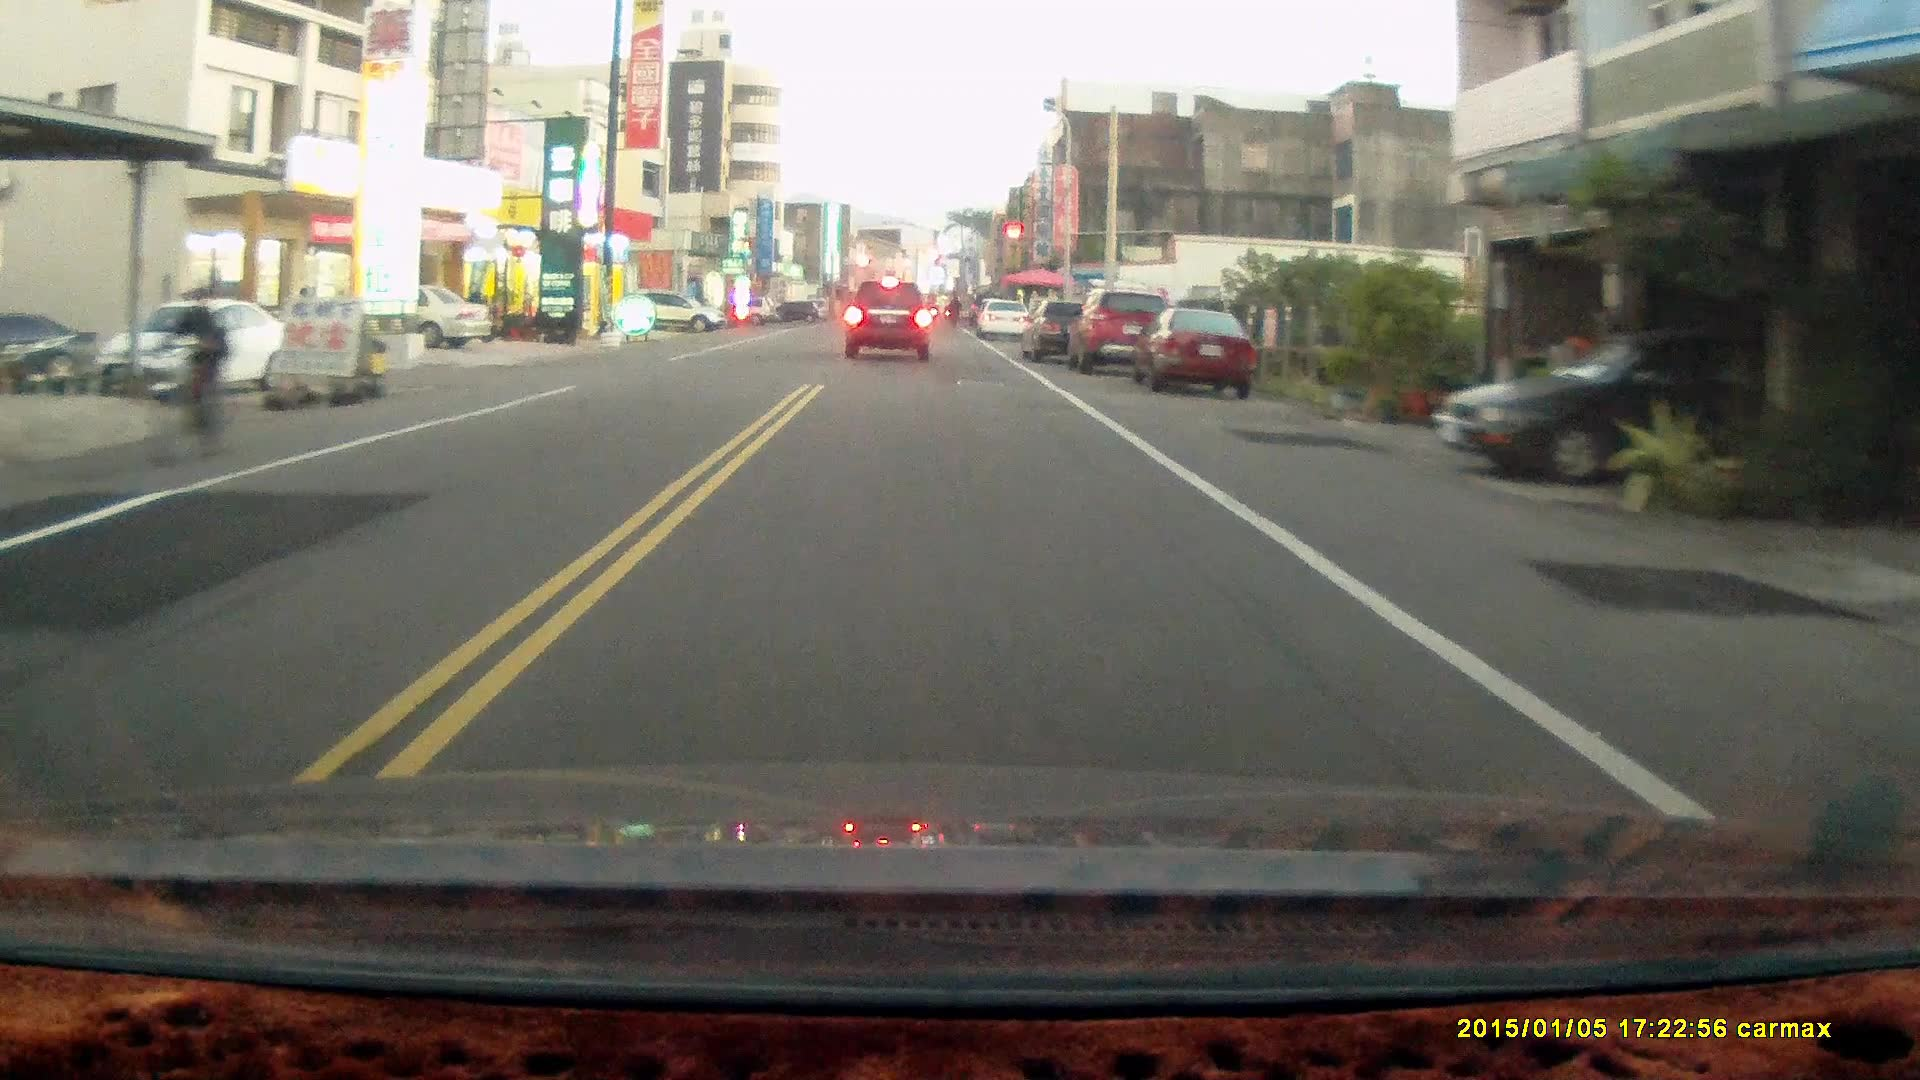rider: (140, 281, 231, 478)
vehicle: (1435, 319, 1862, 481), (97, 293, 298, 397), (1129, 302, 1265, 398), (317, 282, 494, 354), (1071, 288, 1178, 373), (844, 278, 933, 363), (1023, 296, 1116, 359), (634, 290, 727, 332)
